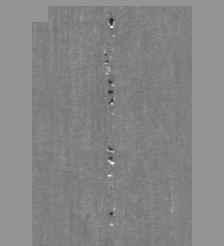oxl: (35, 10, 189, 236)
